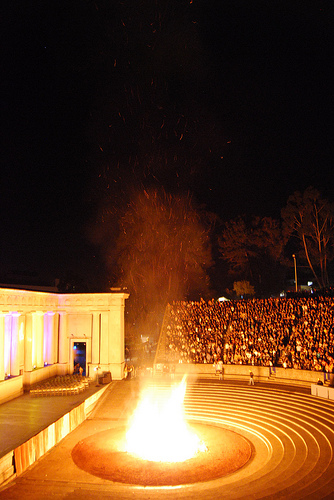fire: (118, 371, 206, 467)
